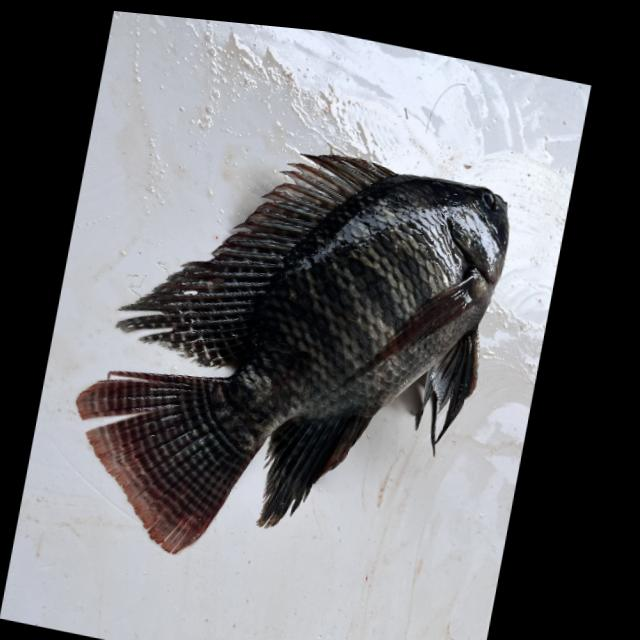Tilapia: (46, 108, 524, 614)
